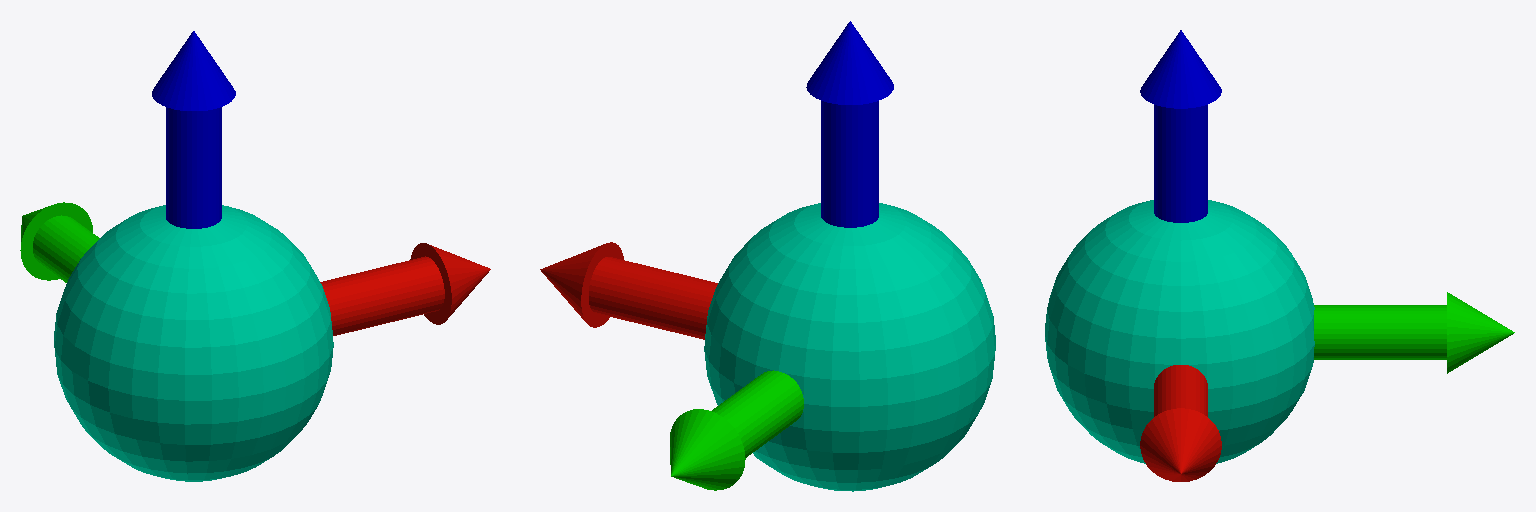
robot.urdf — dd_robot:
<?xml version='1.0'?>
<robot name="dd_robot">
  <link name="plato_ball">
      <visual>
             <origin xyz="0 0 0" rpy="3.14159 3.14159 0"/>
             <geometry>
               <mesh scale="0.09 0.09 0.09" filename="package://iiwa_moveit/urdf/ball_mesh.dae"/>
             </geometry>
             <material name="Orange"/>
      </visual>
  </link>
</robot>

--- What the picture shows (computed from the rendered views, not written in the file) ---
The picture shows the robot from 3 angles, left to right: view 1: azimuth 30°, elevation 25°; view 2: azimuth 150°, elevation 25°; view 3: azimuth 270°, elevation 25°; orthographic projection.
Model dd_robot with 1 links and 0 joints (none), rooted at plato_ball, posed all joints at 0.
Visible links, largest first — view 1: plato_ball; view 2: plato_ball; view 3: plato_ball.
Link boxes in pixels (<box>): plato_ball: <box>20,31,490,481</box>; plato_ball: <box>540,21,995,491</box>; plato_ball: <box>1045,30,1514,481</box>.
Bounding box of the posed robot: 0.3105 × 0.3105 × 0.3105 m (x, y, z).
1 mesh visuals loaded from 1 distinct referenced files (1 Collada DAE).